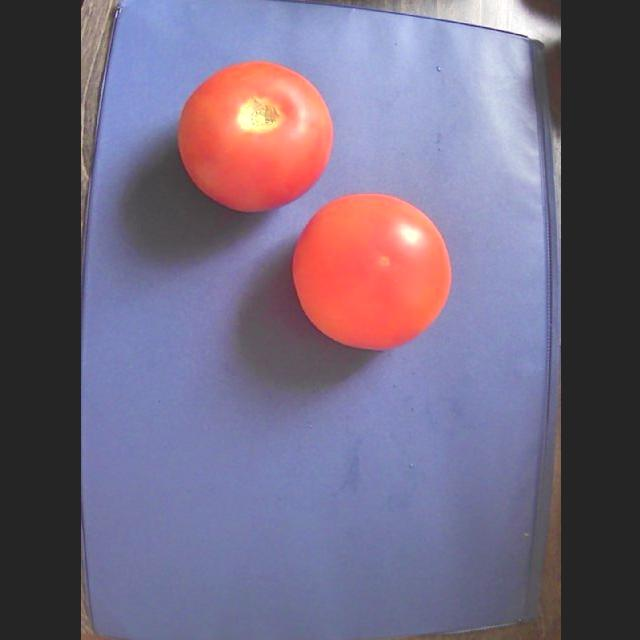tomate: (292, 194, 450, 349), (177, 61, 332, 211)
